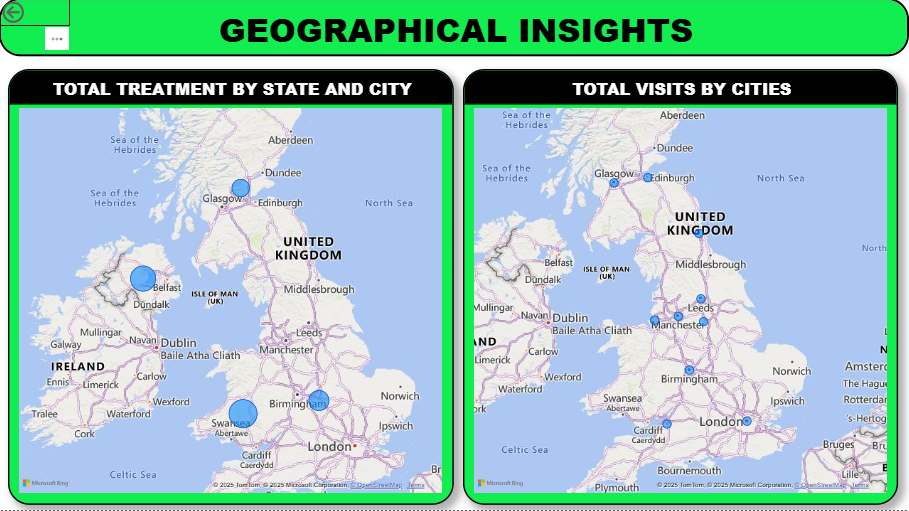

The dashboard page shown, as its layout file describes it:
{"tool":"powerbi","page":{"name":"Geographical Insights","canvas":[1280,720],"ordinal":4},"visuals":[{"type":"textbox","title":"GEOGRAPHICAL INSIGHTS","box":[0,0,1280,81.6],"z":0},{"type":"actionButton","box":[0,0,100,40],"z":1000},{"type":"map","title":"TOTAL TREATMENT BY STATE AND CITY","fields":{"Category":["cities.State","cities.City"],"Size":["Sum(visits.Treatment Cost)"]},"box":[12.7,99.9,627.3,613.3],"z":2000},{"type":"map","title":"TOTAL VISITS BY CITIES","fields":{"Category":["cities.City"],"Y":["XMEASURE.XTOTAL VISITS"]},"box":[652.7,99.9,611.9,613.3],"z":4000}]}

Visuals, with their boxes on the page's 1280x720 design canvas (x1, y1, x2, y2). These are canvas units, not pixel positions in the 909x511 screenshot, which may show the page scaled, cropped or inside an application window:
"GEOGRAPHICAL INSIGHTS" textbox: select_region(0, 0, 1280, 82)
actionButton: select_region(0, 0, 100, 40)
"TOTAL TREATMENT BY STATE AND CITY" map: select_region(13, 100, 640, 713)
"TOTAL VISITS BY CITIES" map: select_region(653, 100, 1265, 713)
